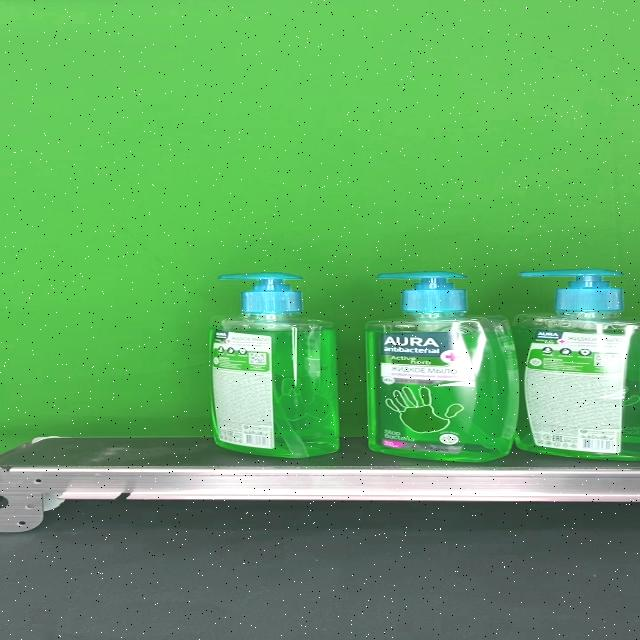Bottle: (365, 272, 518, 462), (510, 269, 640, 461), (208, 273, 339, 458)
Cap: (518, 269, 624, 311), (374, 272, 468, 313), (218, 273, 304, 314)
